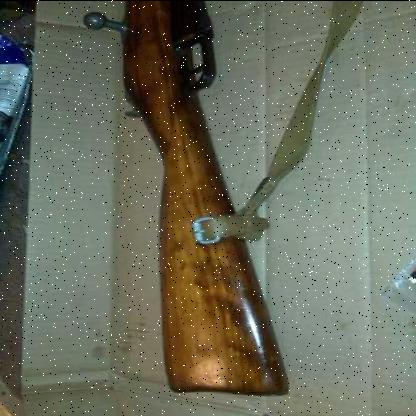rifle: (103, 1, 301, 402)
